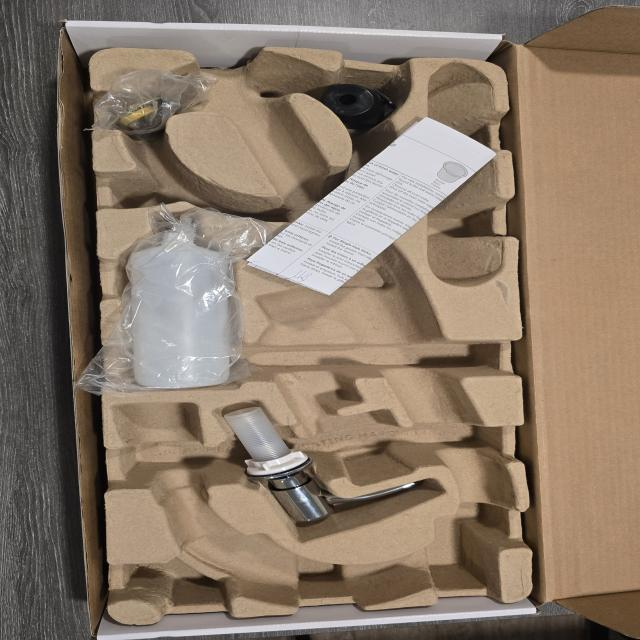1m: (113, 52, 512, 602)
2: (225, 406, 420, 523)
3: (128, 215, 232, 388)
4m: (421, 64, 502, 286)
5: (319, 83, 397, 131)
6: (87, 70, 216, 136)
7m: (114, 145, 254, 215)
8: (246, 115, 499, 295)
